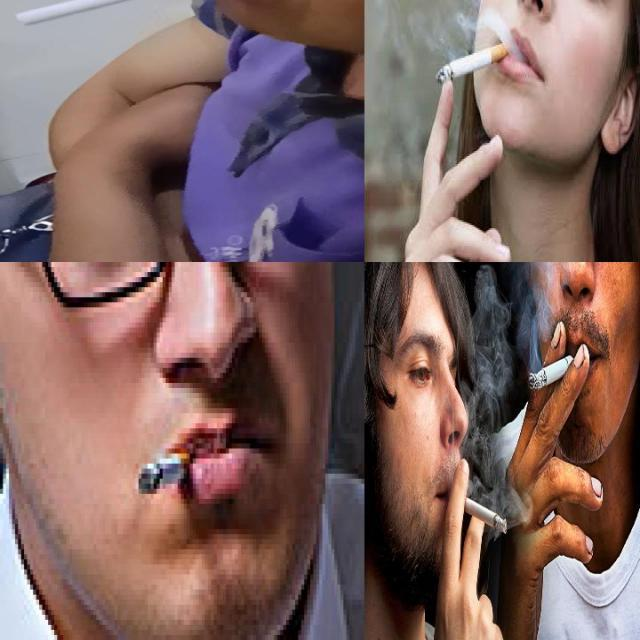cigarette: (17, 0, 231, 27), (435, 40, 514, 86), (450, 489, 508, 536), (138, 451, 192, 495), (529, 354, 575, 392)
